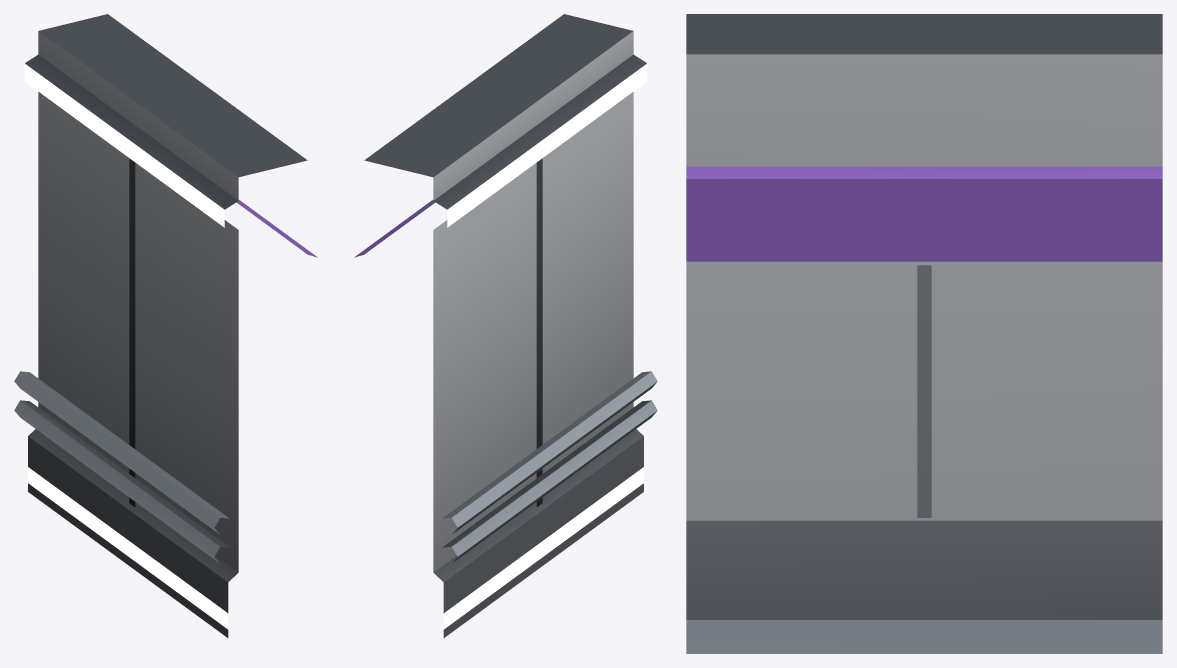
File: wall_patch.glb
The picture shows the model from 3 angles, left to right: view 1: azimuth 30°, elevation 25°; view 2: azimuth 150°, elevation 25°; view 3: azimuth 270°, elevation 25°; orthographic projection. The views are drawn at different scales.
Parts seen in each view (by area): view 1: Base; view 2: Base; view 3: Base.
Part boxes in pixels (x1=…): Base: x1=14, y1=14, x2=317, y2=637; Base: x1=354, y1=14, x2=657, y2=637; Base: x1=686, y1=14, x2=1162, y2=653.
Size of the model in its own units: 0.31 by 1.37 by 1.
